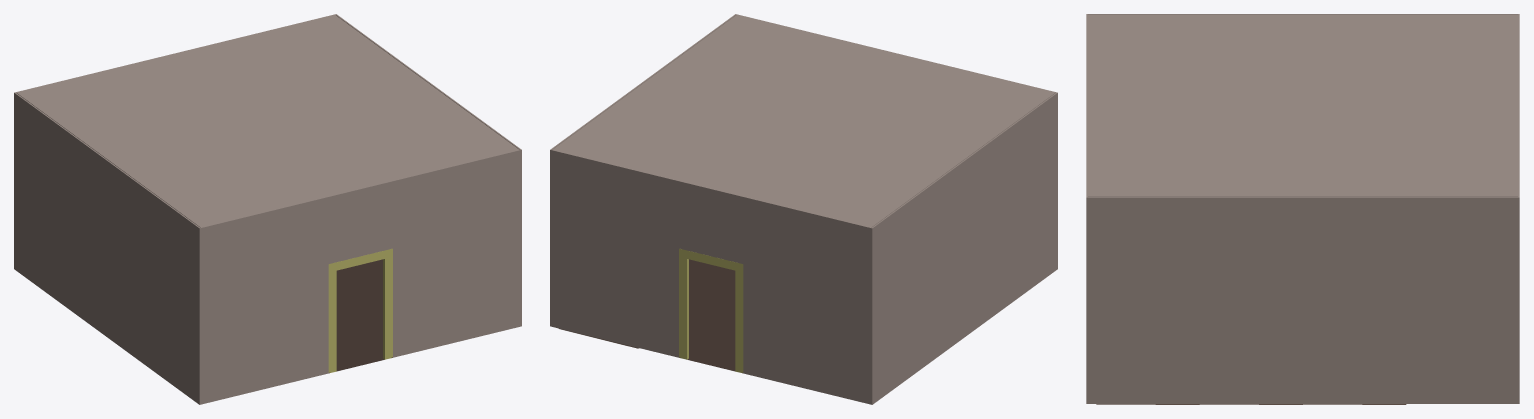
Rendered from Room30_Larder.fbx.
The picture shows the model from 3 angles, left to right: view 1: azimuth 30°, elevation 25°; view 2: azimuth 150°, elevation 25°; view 3: azimuth 270°, elevation 25°; orthographic projection. The views are drawn at different scales.
Visible parts, largest first — view 1: Roof, WallSlicedPosZ, WallPosX, WallSlicedPosZ30, WallPosX3, Floor, DoorFramePosZ, WallNegX; view 2: Roof, WallSlicedNegZ, WallPosX, WallSlicedNegZ3, WallPosX3, Floor, DoorFrameNegZ, WallNegX; view 3: Roof, WallNegX, WallNegX3, WallPosX.
Part boxes in pixels (x1,y1,x2,y2): Roof: [17, 15, 518, 227]; WallSlicedPosZ: [200, 149, 520, 364]; WallPosX: [14, 92, 200, 364]; WallSlicedPosZ30: [200, 286, 520, 404]; WallPosX3: [14, 229, 201, 404]; Floor: [329, 259, 392, 373]; DoorFramePosZ: [328, 248, 392, 372]; WallNegX: [336, 14, 521, 285]; Roof: [553, 15, 1054, 227]; WallSlicedNegZ: [550, 149, 871, 364]; WallPosX: [871, 92, 1057, 364]; WallSlicedNegZ3: [550, 286, 871, 404]; WallPosX3: [870, 229, 1057, 404]; Floor: [679, 259, 742, 373]; DoorFrameNegZ: [679, 248, 743, 372]; WallNegX: [550, 14, 735, 285]; Roof: [1088, 15, 1517, 196]; WallNegX: [1086, 197, 1519, 356]; WallNegX3: [1086, 356, 1519, 403]; WallPosX: [1086, 14, 1519, 14].
Size of the model in its own units: 802 by 426 by 800.
